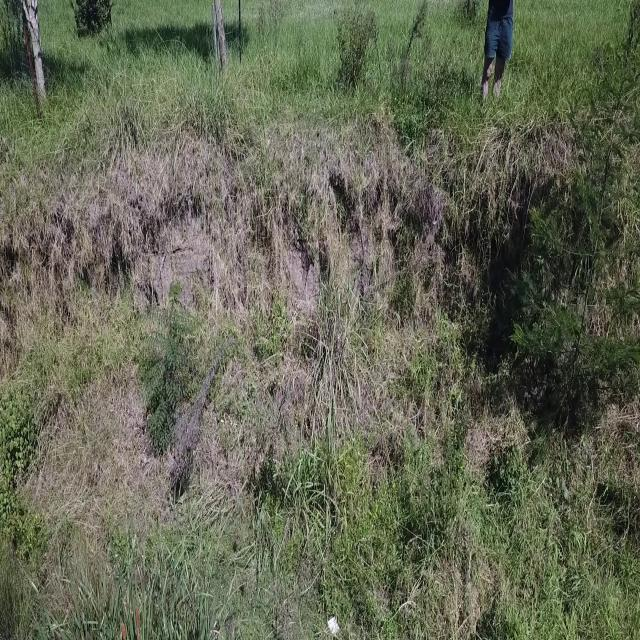Mysore-Thorn-Weed: (138, 278, 200, 452)
